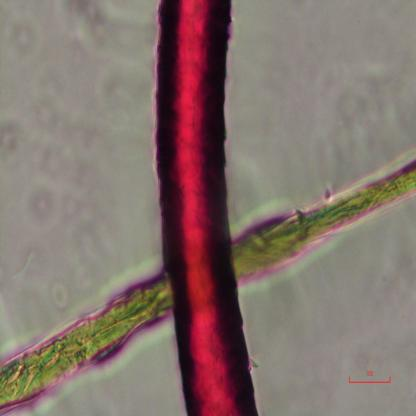Background material: (307, 54, 390, 188), (1, 84, 86, 186), (64, 0, 132, 62), (26, 190, 68, 226), (12, 244, 40, 287), (46, 279, 72, 315)
Hair textile: (155, 1, 261, 415)
Microfibre: (0, 156, 416, 414)
